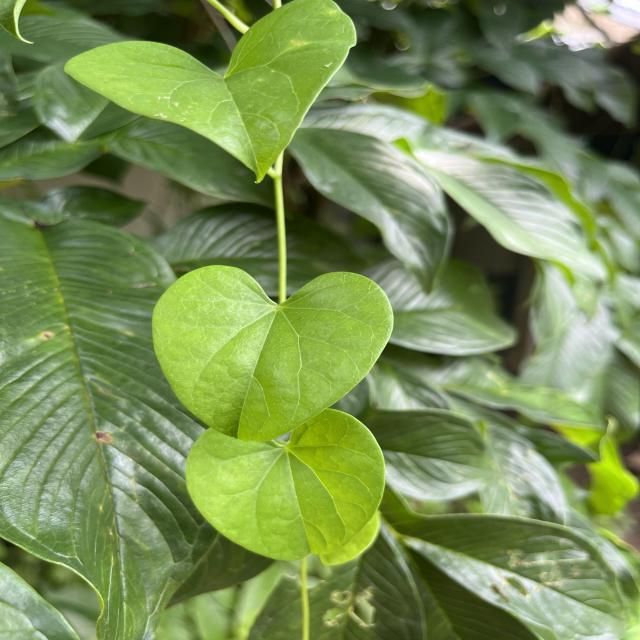Tinospora cordifolia: (62, 0, 360, 188), (148, 262, 396, 446), (182, 408, 389, 564)
